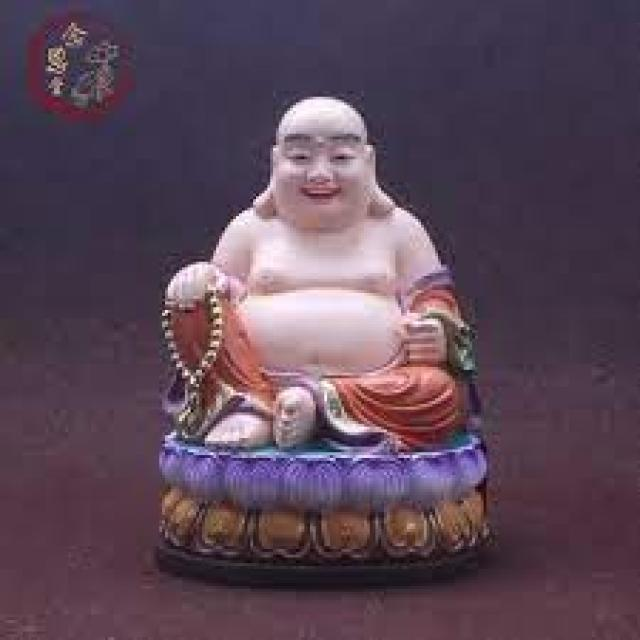Smiling Buddha: (167, 92, 471, 436)
